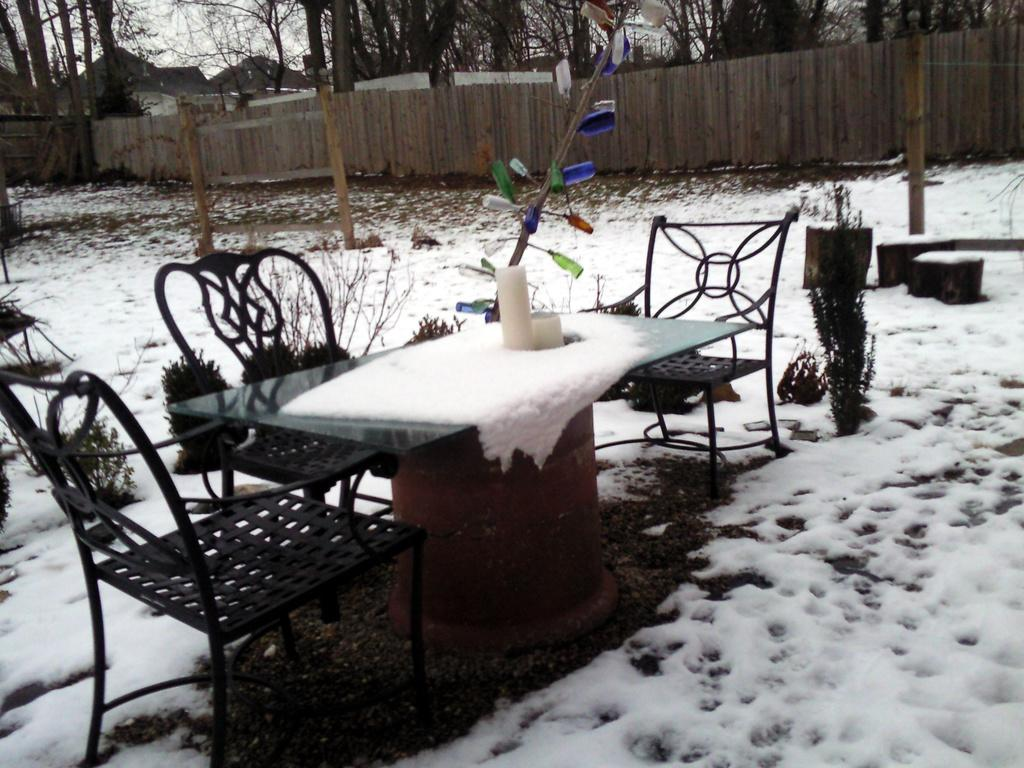Chair: (158, 249, 384, 527), (601, 212, 805, 499)
